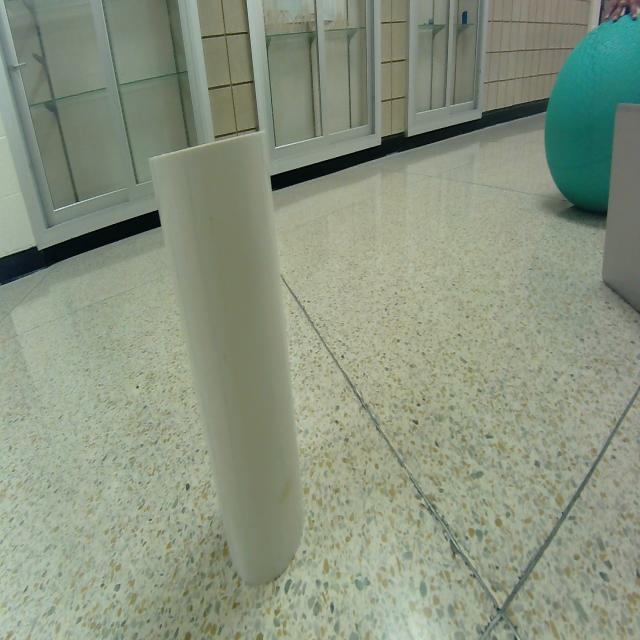algae: (544, 0, 640, 212)
coral: (150, 132, 304, 584)
